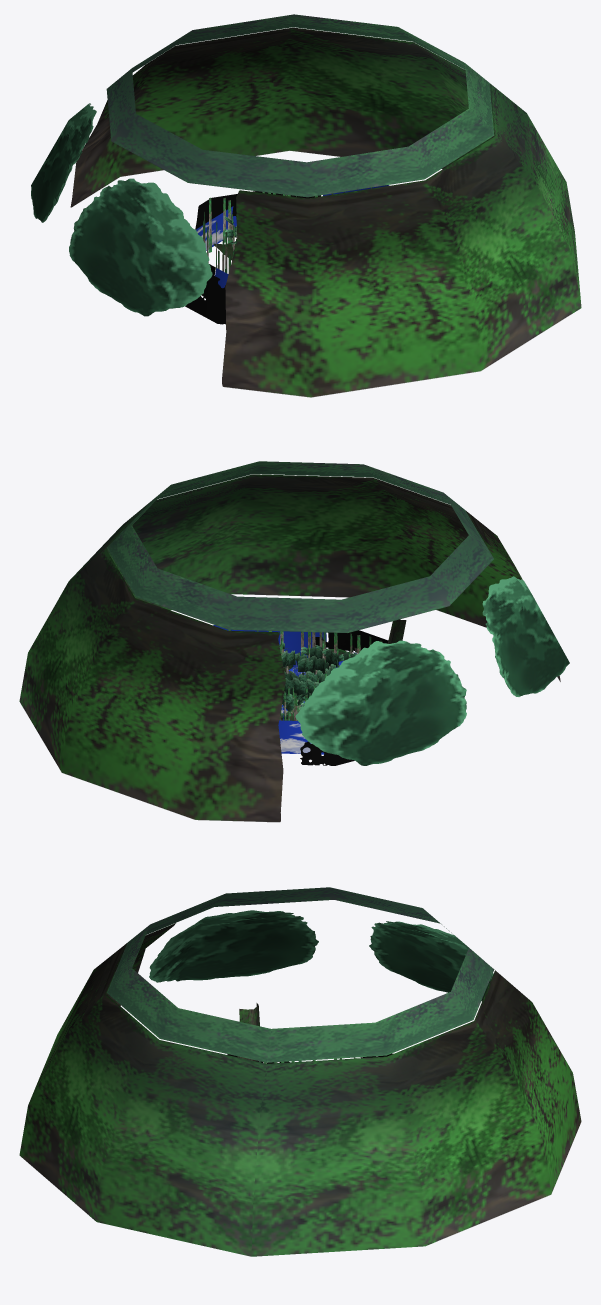
The model's file is Battle_BG.fbx.
The picture shows the model from 3 angles, top to bottom: view 1: azimuth 30°, elevation 25°; view 2: azimuth 150°, elevation 25°; view 3: azimuth 270°, elevation 25°; orthographic projection. The views are drawn at different scales.
Parts seen in each view (by area): view 1: Sky_dome_poly, Mountain_poly, Forest_poly; view 2: Sky_dome_poly, Sugi_Crester_L_poly, Mountain_poly, Forest_poly; view 3: Sky_dome_poly.
Boxes of the visible parts, bbox=[...] form: Sky_dome_poly: bbox=[31, 14, 581, 397]; Mountain_poly: bbox=[185, 185, 389, 324]; Forest_poly: bbox=[196, 206, 236, 295]; Sky_dome_poly: bbox=[19, 461, 569, 822]; Sugi_Crester_L_poly: bbox=[279, 642, 357, 711]; Mountain_poly: bbox=[213, 625, 388, 765]; Forest_poly: bbox=[278, 636, 367, 754]; Sky_dome_poly: bbox=[19, 887, 581, 1256].
Bounding box in the file's own units: 23642 × 9708 × 23761.
